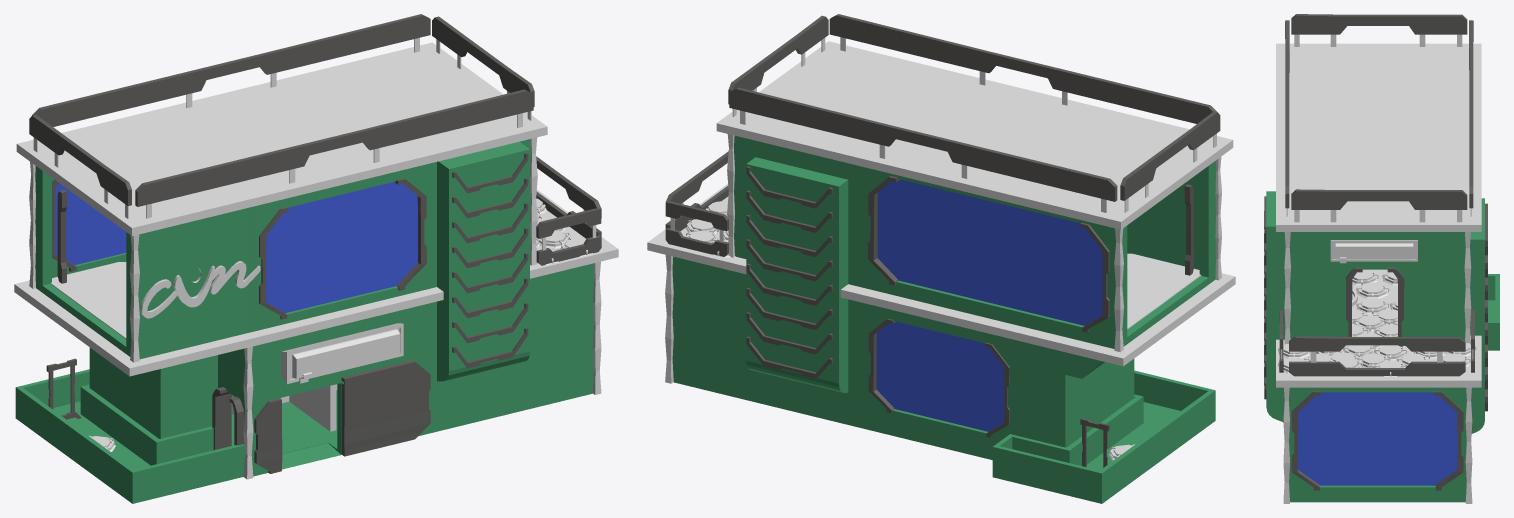
Rendered from edificioProps4.glb.
The picture shows the model from 3 angles, left to right: view 1: azimuth 30°, elevation 25°; view 2: azimuth 150°, elevation 25°; view 3: azimuth 270°, elevation 25°; orthographic projection. The views are drawn at different scales.
Parts seen in each view (by area): view 1: Techo 2, Piso1, Piso 2, Panel1, Cube.079, Pasillo, Cube.014, Cube.058, Base piso 2, Cube.105, Cube.009, Cube.107 (+20 smaller); view 2: Techo 2, Piso1, Cube.080, Piso 2, Panel 2, Pasillo, Cube.084, Cube.058, Base piso 2, Cube.014, Rejillas1, Cylinder (+14 smaller); view 3: Techo 2, Cube.081, Piso 2, Piso1, Base piso 2, Panel1, Cube.020, Cube.063, Panel 2, Cube.040, Cube.039, Cube.097 (+20 smaller).
Part boxes in pixels (box(x1,y1,x2,y2)): Techo 2: box(16, 42, 547, 235); Piso1: box(89, 263, 593, 476); Piso 2: box(35, 139, 530, 359); Panel1: box(437, 141, 529, 381); Cube.079: box(266, 181, 417, 313); Pasillo: box(15, 369, 244, 503); Cube.014: box(135, 89, 533, 206); Cube.058: box(32, 14, 430, 126); Base piso 2: box(14, 189, 618, 376); Cube.105: box(341, 360, 430, 456); Cube.009: box(452, 153, 528, 367); Cube.107: box(281, 323, 403, 384); Techo 2: box(716, 41, 1233, 229); Piso1: box(672, 256, 1134, 459); Cube.080: box(877, 179, 1102, 325); Piso 2: box(734, 135, 1215, 348); Panel 2: box(746, 157, 848, 392); Pasillo: box(992, 370, 1215, 503); Cube.084: box(876, 321, 1004, 431); Cube.058: box(729, 87, 1117, 201); Base piso 2: box(647, 184, 1235, 366); Cube.014: box(829, 14, 1216, 123); Rejillas1: box(746, 166, 832, 378); Cylinder: box(1127, 253, 1201, 329); Techo 2: box(1276, 43, 1481, 231); Cube.081: box(1297, 392, 1457, 485); Piso 2: box(1289, 232, 1465, 345); Piso1: box(1289, 387, 1466, 502); Base piso 2: box(1276, 269, 1481, 387); Panel1: box(1266, 191, 1285, 422); Cube.020: box(1291, 14, 1467, 34); Cube.063: box(1291, 189, 1467, 209); Panel 2: box(1470, 198, 1484, 433); Cube.040: box(1289, 361, 1465, 376); Cube.039: box(1289, 336, 1465, 351); Cube.097: box(1330, 240, 1417, 261).
Size of what is drawn, in the model's own units: 33.18 by 20.91 by 15.53.
